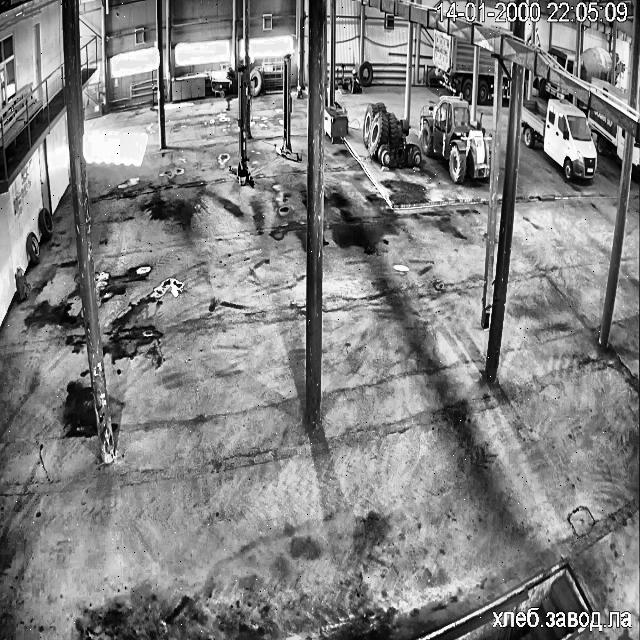car lift: (230, 67, 253, 186), (275, 53, 298, 161)
fire extinguisher: (16, 268, 26, 300)
tractor: (420, 96, 489, 182), (362, 102, 420, 166)
truck: (521, 100, 596, 180), (432, 28, 473, 100), (588, 108, 624, 160), (580, 46, 613, 83), (477, 47, 494, 103), (592, 80, 628, 102), (537, 77, 571, 99), (548, 45, 574, 73), (632, 140, 640, 179), (500, 72, 508, 99), (615, 55, 621, 76), (504, 60, 510, 74)
